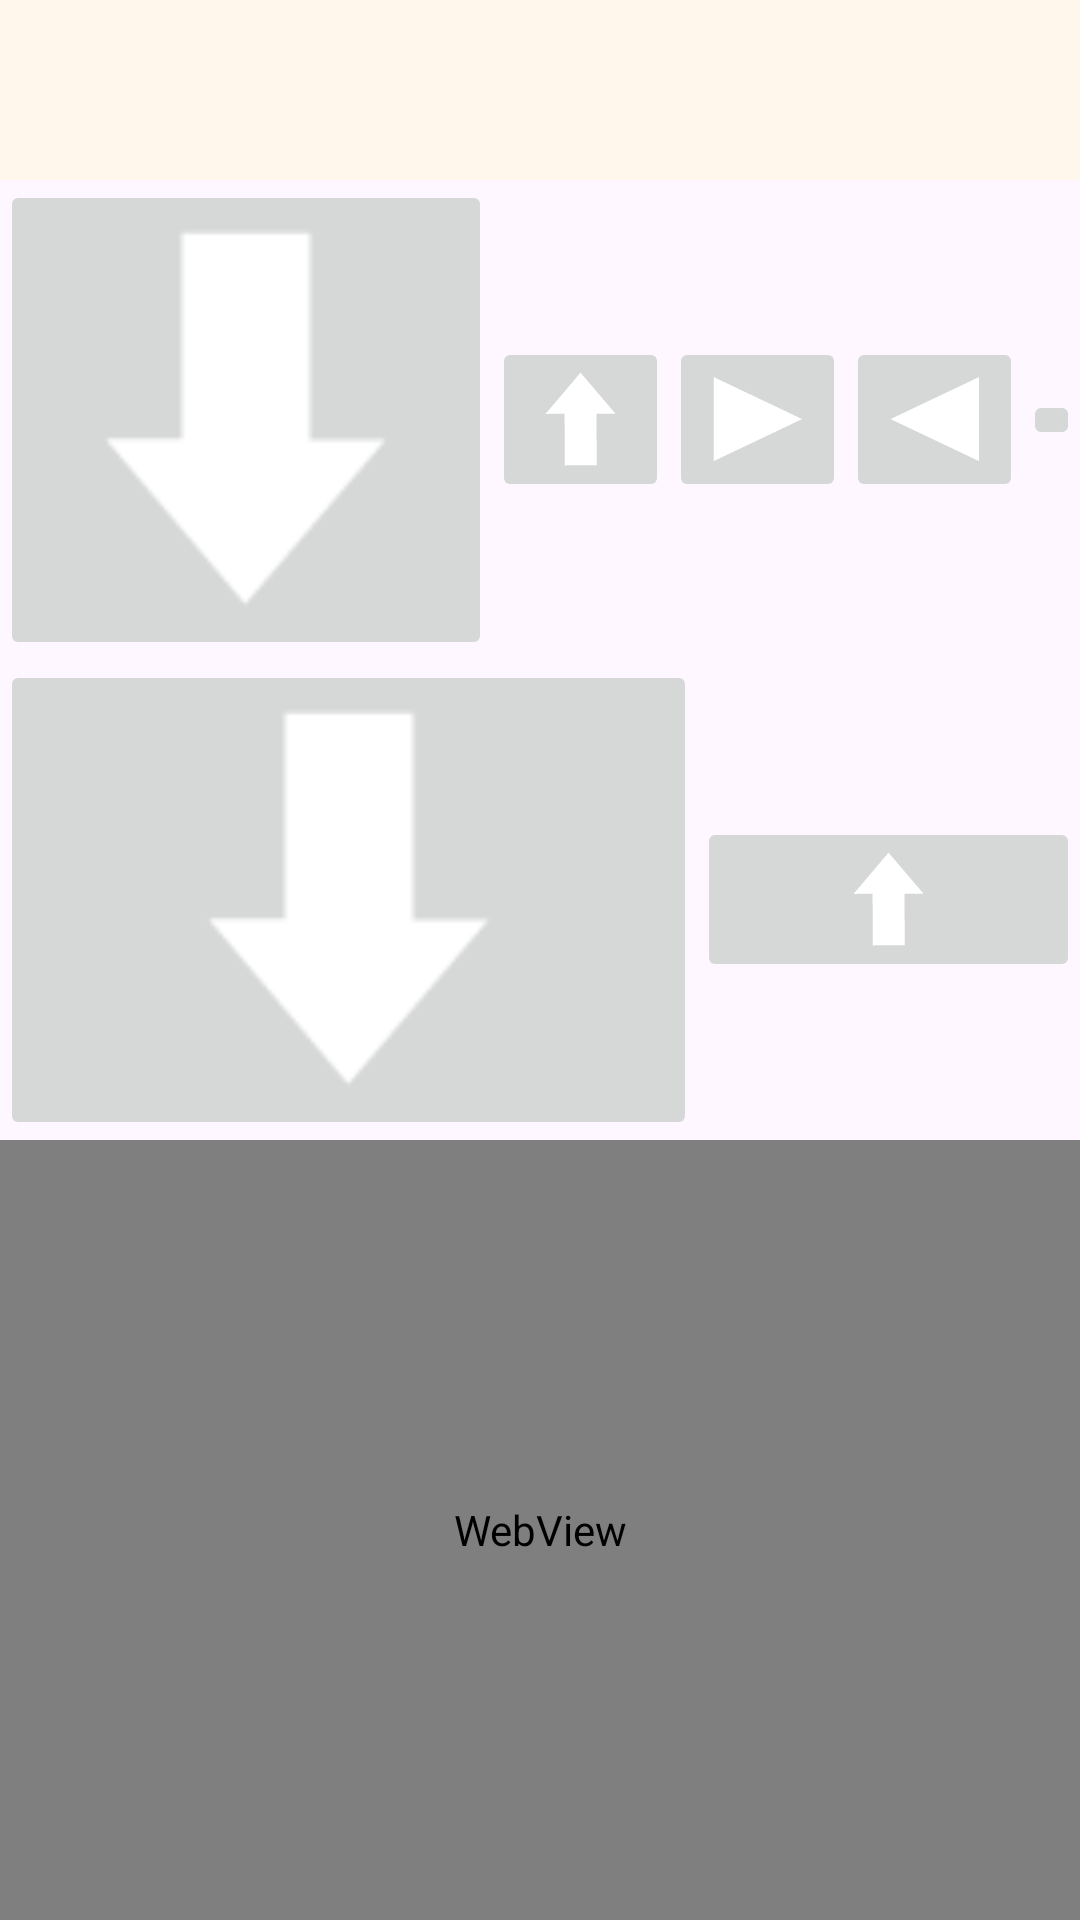

Named icons in this screenshot (1080px×1920px) and their centers, point (x, y):
Next: point (757, 419)
Previous: point (934, 419)
